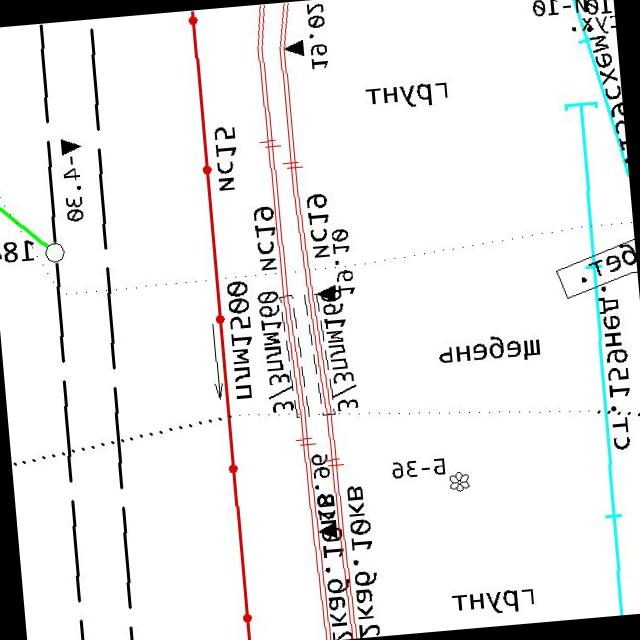bushes: (446, 469, 471, 494)
mark: (58, 134, 84, 158), (316, 520, 340, 542), (282, 39, 306, 59), (314, 284, 338, 304)
well: (42, 240, 67, 265)
